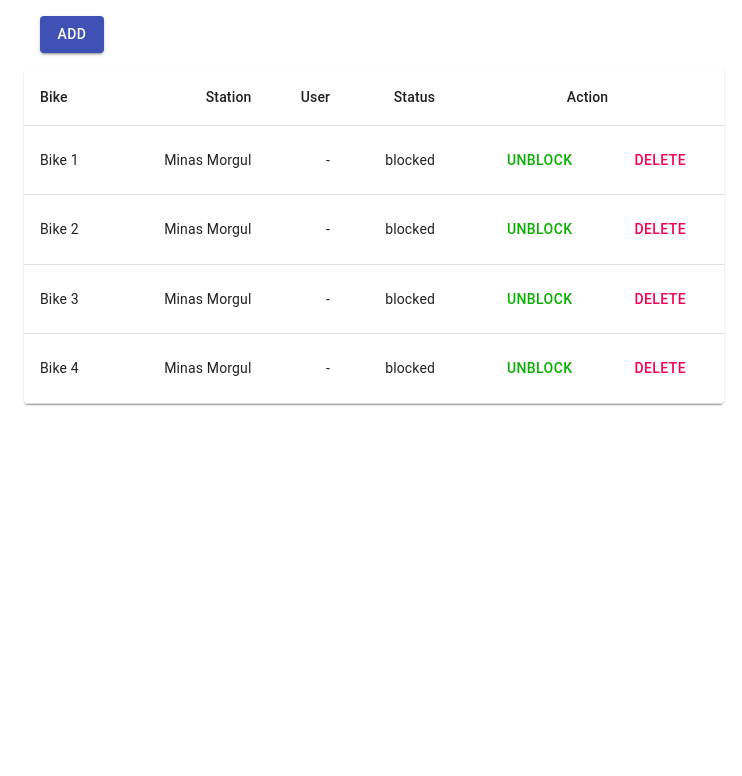
Test case: Clicking unblock changes bike status
The image size is (742, 776).
Click the 3rd button "Unblock".
click(540, 299)  # box [499,280,580,317]
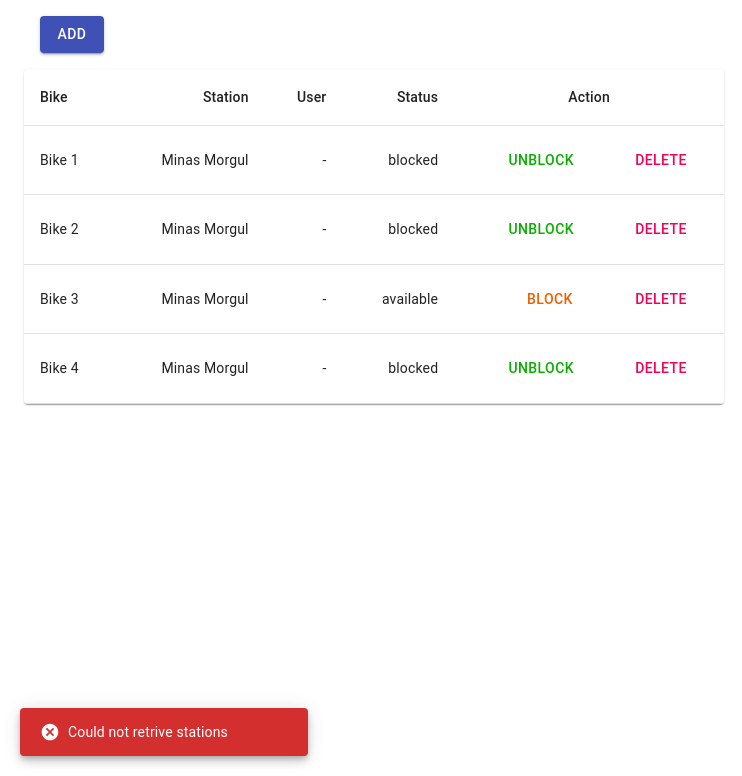
Expected: the cell "available" is shown, [342,264,454,334]
